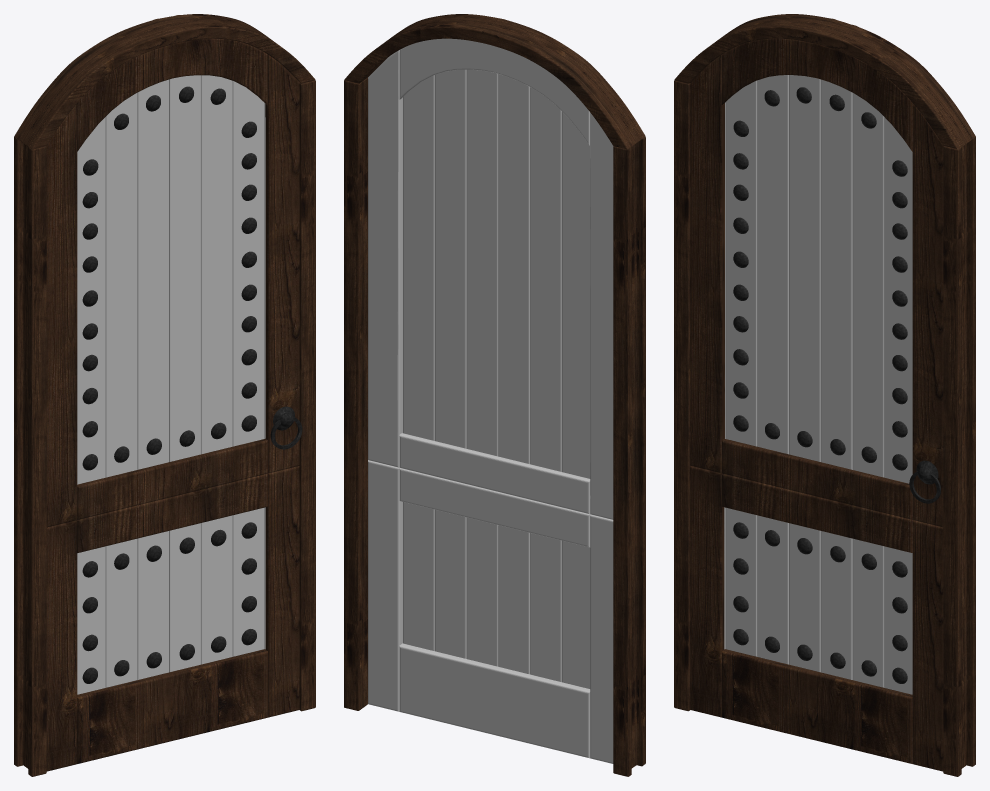
File: old door5.FBX
3 views of the same model, side by side, from view 1: azimuth 30°, elevation 25°; view 2: azimuth 150°, elevation 25°; view 3: azimuth 330°, elevation 25° (orthographic).
Visible parts, largest first — view 1: door5, old door5; view 2: door5, old door5; view 3: door5, old door5.
Part boxes in pixels (box(x1,y1,x2,y2)): door5: box(46, 38, 302, 771); old door5: box(14, 14, 315, 776); door5: box(368, 38, 613, 763); old door5: box(344, 14, 645, 776); door5: box(690, 38, 943, 771); old door5: box(674, 14, 975, 776).
Bounding box in the file's own units: 896 × 125 × 2138.
